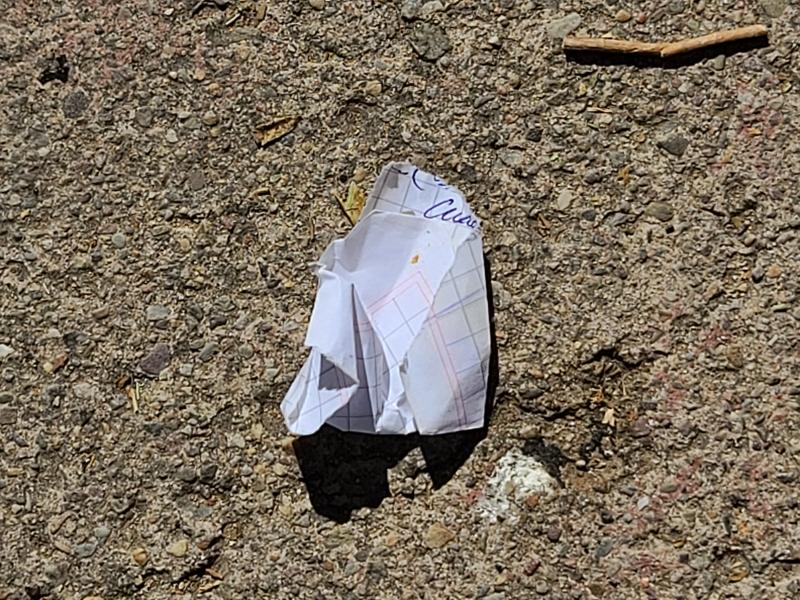papel: (280, 163, 497, 438)
